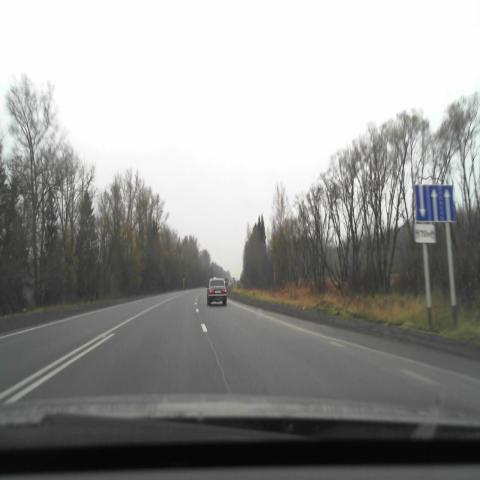5_15_7: (415, 185, 455, 222)
